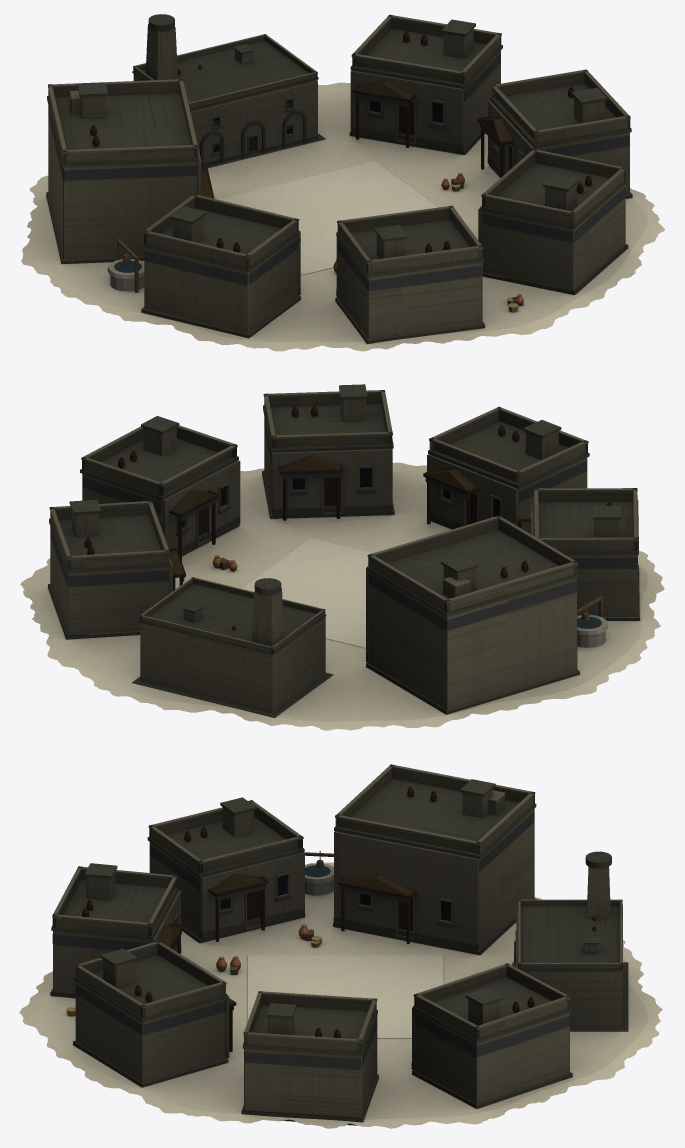
File: classical-town-small-a-eastafrica.glb
The picture shows the model from 3 angles, top to bottom: view 1: azimuth 30°, elevation 25°; view 2: azimuth 150°, elevation 25°; view 3: azimuth 270°, elevation 25°; orthographic projection.
Visible parts, largest first — view 1: LOD0; view 2: LOD0; view 3: LOD0.
Boxes of the visible parts, x1,y1,x2,y2 form: LOD0: (21,14,664,351); LOD0: (20,384,664,730); LOD0: (19,764,662,1128).
Size of what is drawn, in the model's own units: 3.95 by 0.8684 by 4.03.
Materials: 3 (3 with a texture image).
